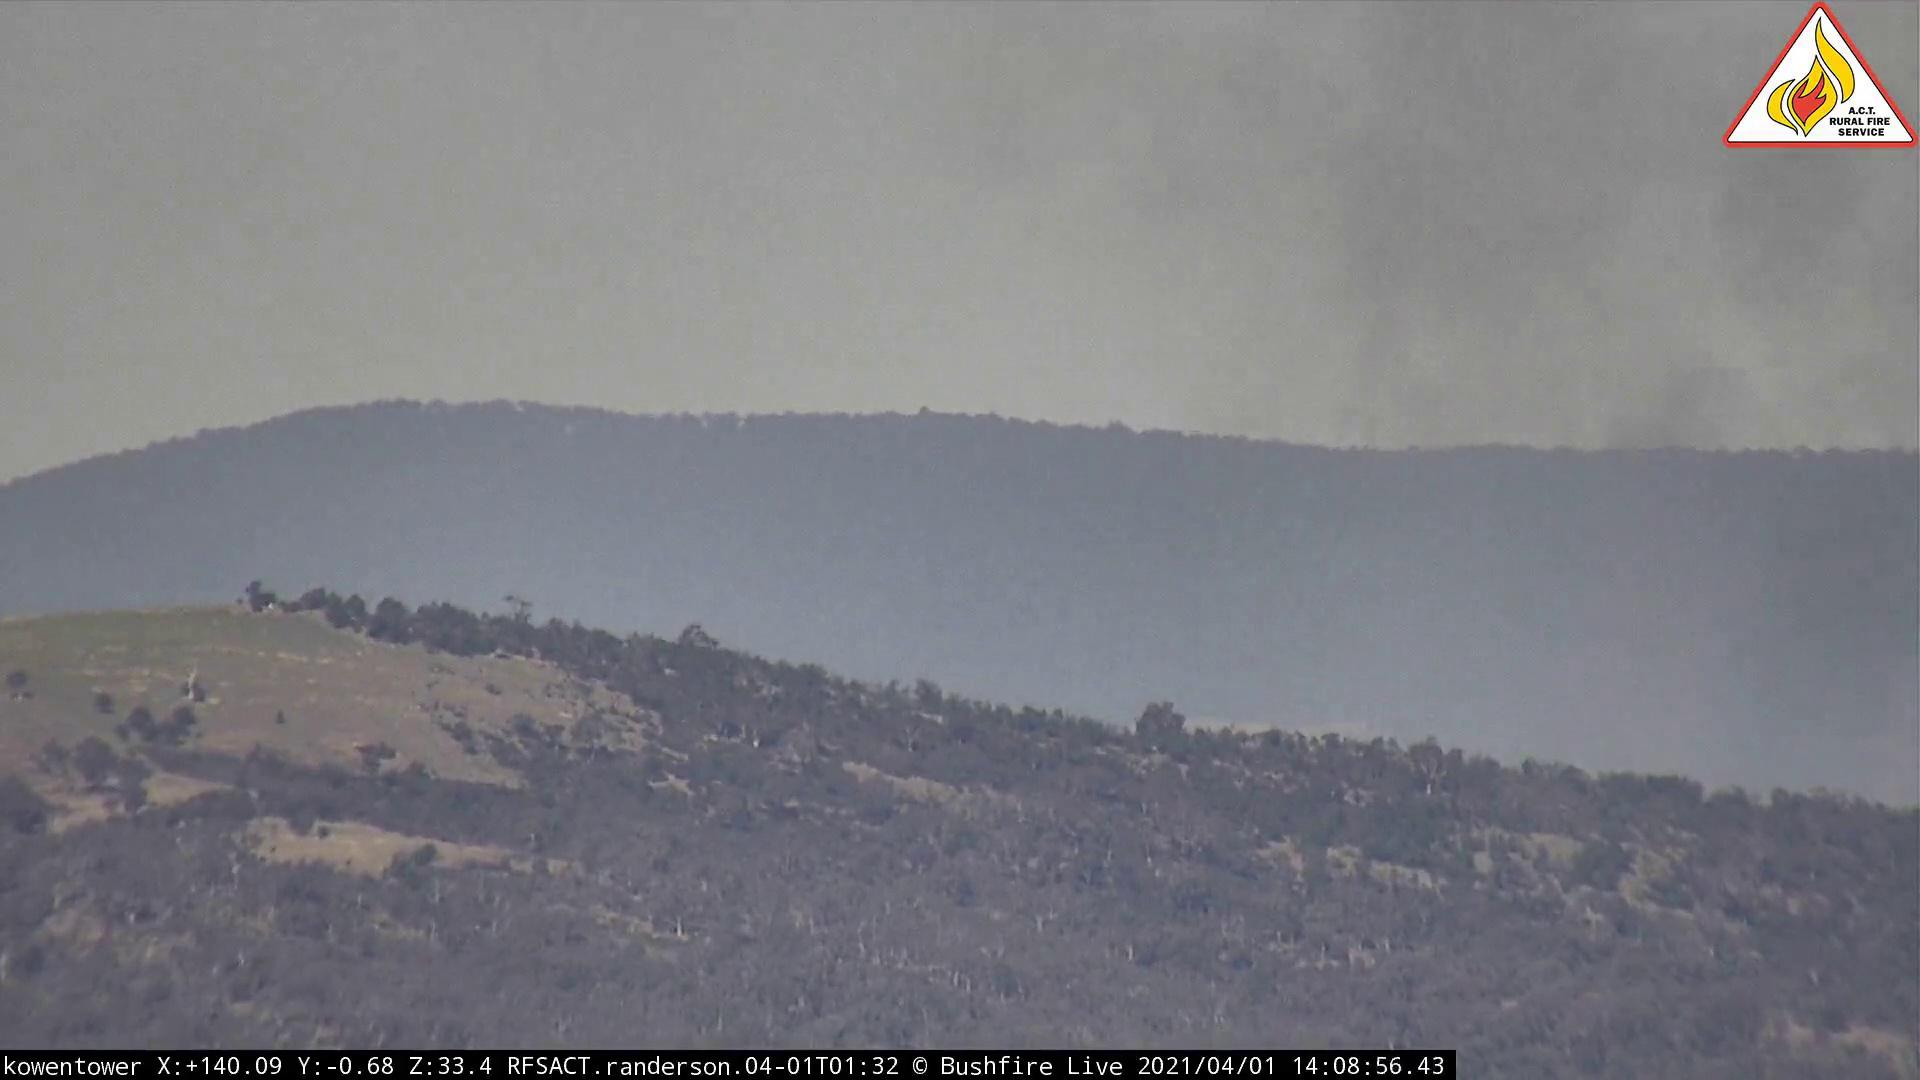Smoke: (1127, 189, 1920, 775)
